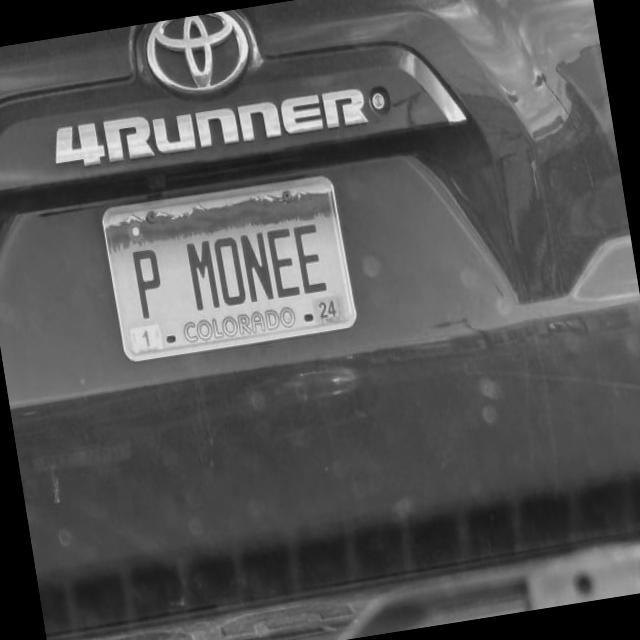LicensePlate: (100, 171, 361, 366)
